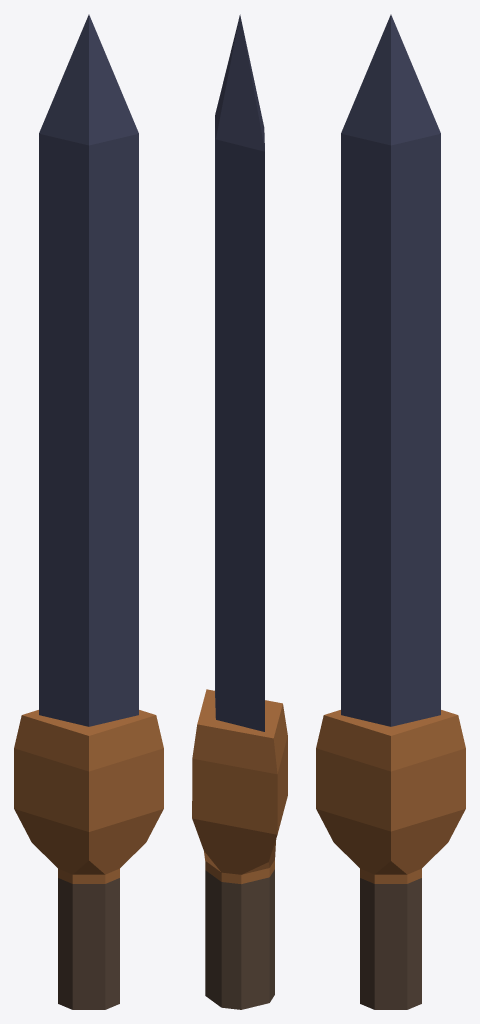
Rendered from SimpleSword.fbx.
3 views of the same model, side by side, from view 1: azimuth 90°, elevation 25°; view 2: azimuth 210°, elevation 25°; view 3: azimuth 270°, elevation 25° (orthographic).
Visible parts, largest first — view 1: Cube; view 2: Cube; view 3: Cube.
Boxes of the visible parts, x1,y1,x2,y2 form: Cube: [14, 14, 163, 1009]; Cube: [192, 14, 287, 1009]; Cube: [316, 14, 465, 1009].
Bounding box in the file's own units: 81.28 × 796 × 110.
